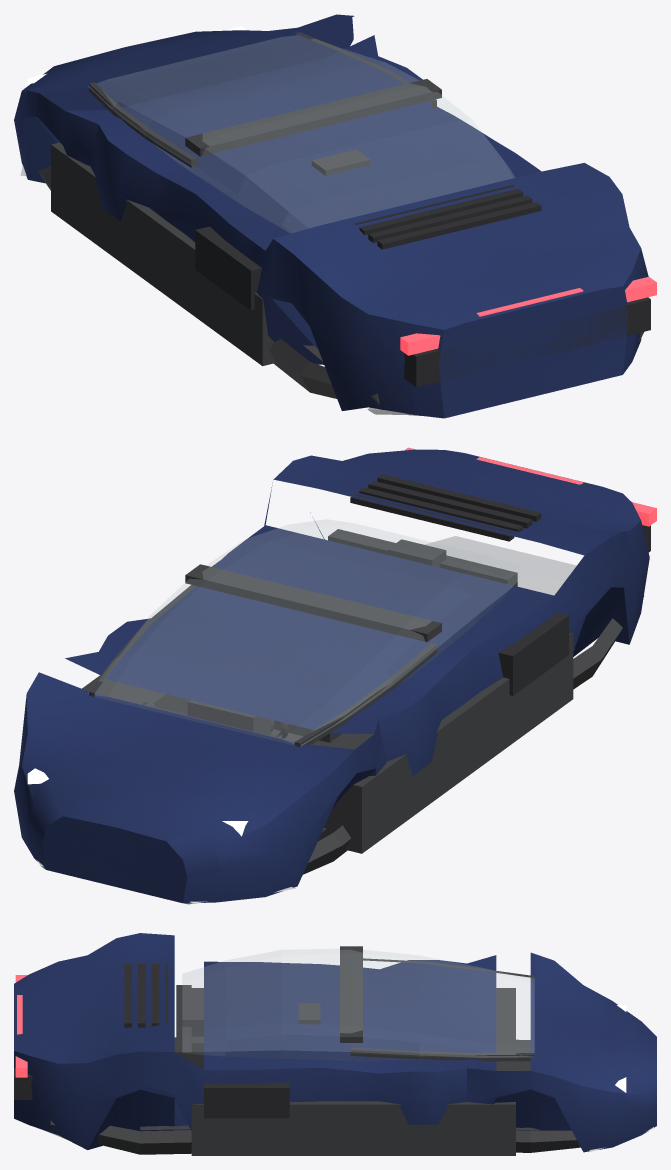
File: hero.glb
The picture shows the model from 3 angles, top to bottom: view 1: azimuth 30°, elevation 25°; view 2: azimuth 150°, elevation 25°; view 3: azimuth 270°, elevation 25°; orthographic projection. The views are drawn at different scales.
Parts seen in each view (by area): view 1: body_shell, glass, bonnet_shell, interior_tub, body_vents, header_rail, body_accent, body_rear, pillar_left, seats; view 2: body_shell, glass, bonnet_shell, interior_tub, body_vents, header_rail, body_trim, body_accent, pillar_left, dash_binnacle, seats, body_rear (+1 smaller); view 3: body_shell, glass, bonnet_shell, interior_tub, body_vents, body_accent, header_rail, pillar_right, seats, dash_sweep, body_rear, pillar_left.
Part boxes in pixels (box(x1,y1,x2,y2)): body_shell: box(35, 15, 648, 418); glass: box(88, 35, 514, 232); bonnet_shell: box(14, 14, 353, 183); interior_tub: box(51, 142, 275, 366); body_vents: box(195, 184, 650, 387); header_rail: box(185, 79, 441, 156); body_accent: box(38, 165, 643, 409); body_rear: box(400, 276, 656, 355); pillar_left: box(89, 82, 196, 167); seats: box(311, 149, 370, 175); body_shell: box(37, 449, 649, 808); glass: box(88, 519, 526, 745); bonnet_shell: box(14, 676, 353, 903); interior_tub: box(82, 529, 573, 853); body_vents: box(212, 474, 650, 695); header_rail: box(185, 564, 441, 641); body_trim: box(37, 536, 576, 904); body_accent: box(271, 596, 643, 874); pillar_left: box(294, 643, 436, 746); dash_binnacle: box(187, 700, 274, 735); seats: box(273, 539, 446, 742); body_rear: box(405, 447, 656, 526); body_shell: box(14, 933, 534, 1149); glass: box(182, 949, 534, 1061); bonnet_shell: box(534, 954, 656, 1152); interior_tub: box(176, 985, 515, 1155); body_vents: box(14, 964, 289, 1118); body_accent: box(50, 1037, 580, 1154); header_rail: box(340, 946, 362, 1042); pillar_right: box(350, 1047, 534, 1061); seats: box(182, 1003, 320, 1069); dash_sweep: box(496, 1004, 512, 1070); body_rear: box(15, 975, 27, 1077); pillar_left: box(363, 958, 534, 977).
Bounding box in the file's own units: 1.85 × 0.81 × 4.2.
Materials: 8 (1 with a texture image).
